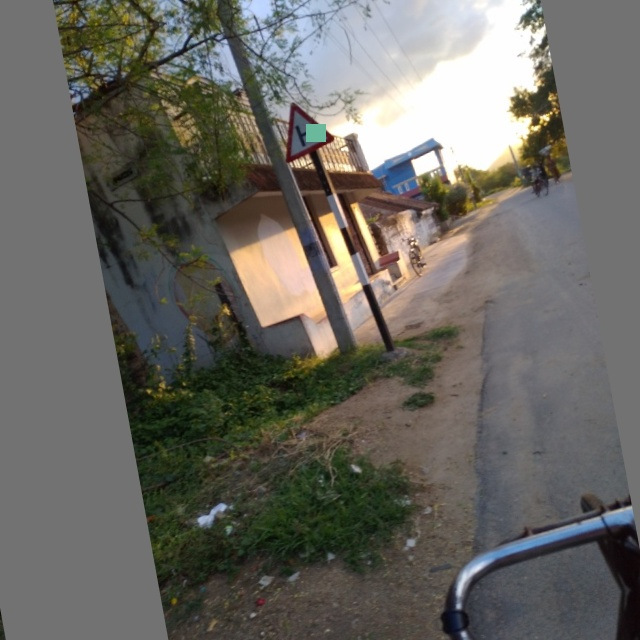Side_Road_Right: (269, 91, 343, 167)
